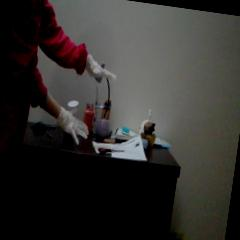gloved: (54, 107, 92, 147), (84, 54, 120, 83)
